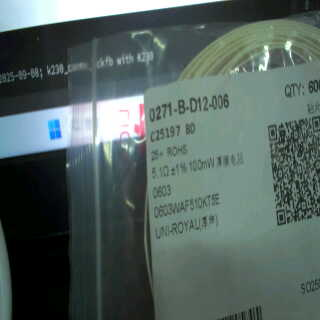5.1R: (146, 162, 170, 182)
